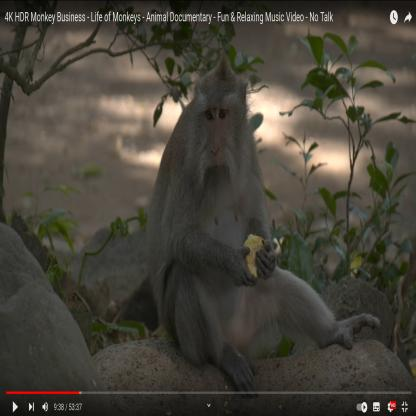monkey: (145, 47, 384, 390)
